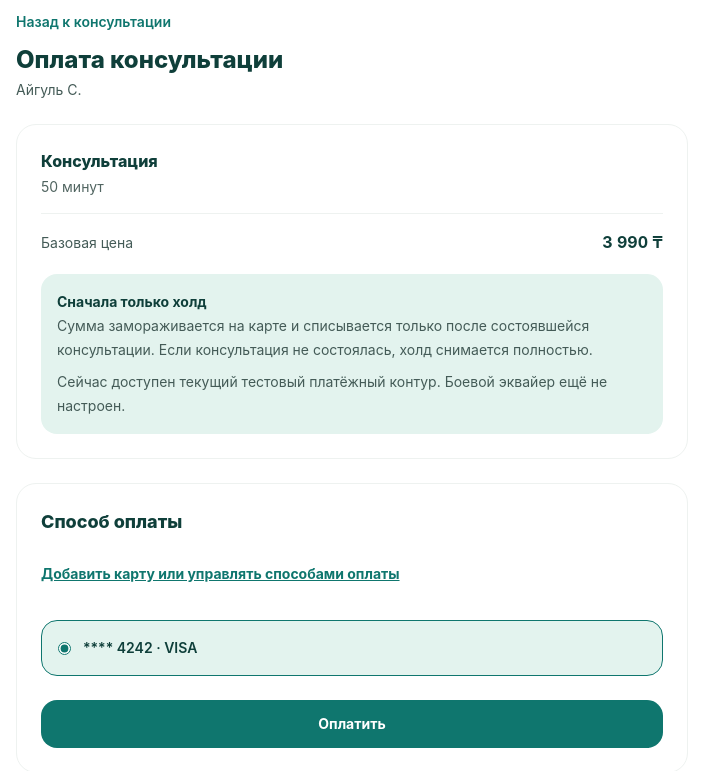
Scenario: PaymentCheckout › при удалённом способе объясняет ошибку и перечитывает список карт
expect the radio button labelled "**** 4242 · VISA" is shown: met, box [58,642,71,654]
Click the button "Оплатить" at (352,724), box [41,700,663,748]
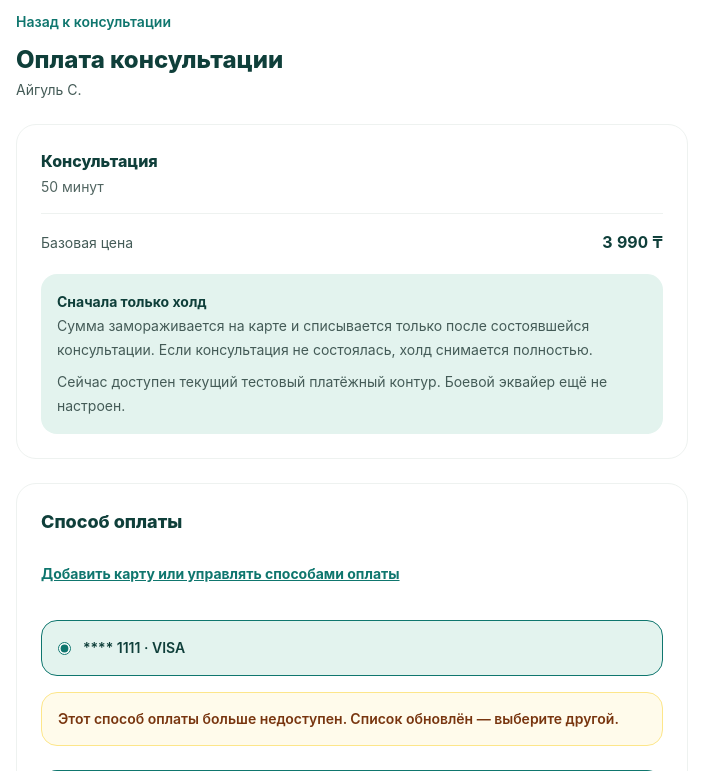
expect the radio button labelled "**** 1111 · VISA" is checked: met, box [58,642,71,654]
expect the message shows "больше недоступен": met, box [58,710,619,727]
